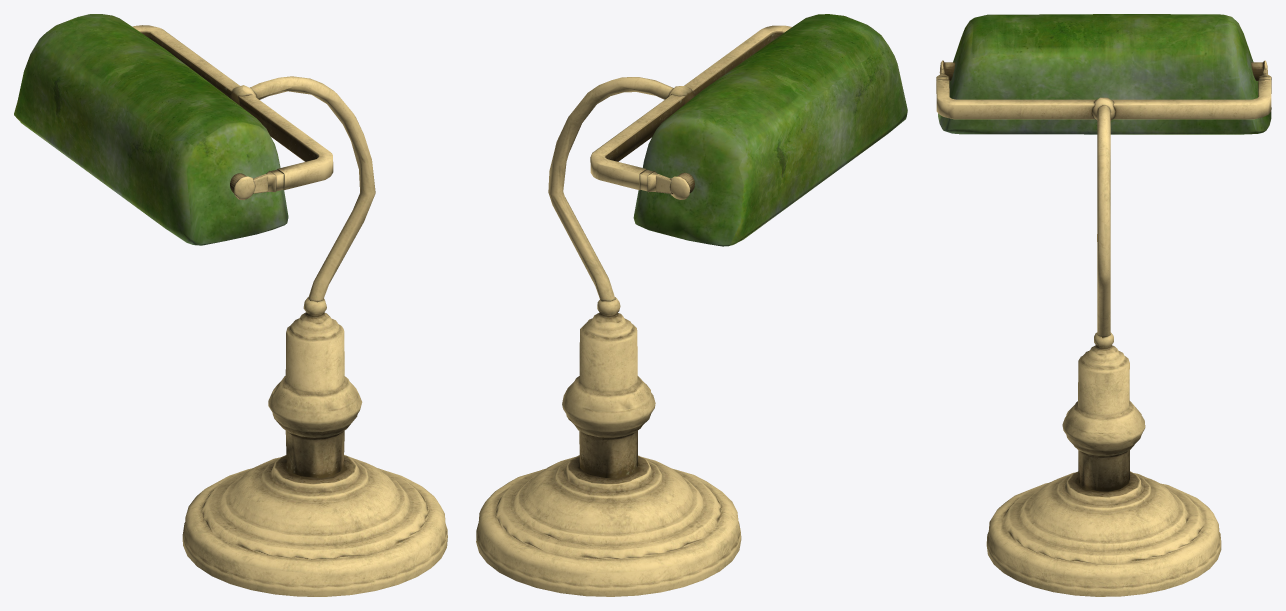
File: Lamp.fbx
The picture shows the model from 3 angles, left to right: view 1: azimuth 30°, elevation 25°; view 2: azimuth 150°, elevation 25°; view 3: azimuth 270°, elevation 25°; orthographic projection. The views are drawn at different scales.
Parts seen in each view (by area): view 1: retro table lamp-Freepoly.org; view 2: retro table lamp-Freepoly.org; view 3: retro table lamp-Freepoly.org.
Boxes of the visible parts, bbox=[...] form: retro table lamp-Freepoly.org: bbox=[14, 14, 447, 596]; retro table lamp-Freepoly.org: bbox=[476, 14, 907, 596]; retro table lamp-Freepoly.org: bbox=[936, 14, 1271, 596].
Bounding box in the file's own units: 25.13 × 37.38 × 24.94.
